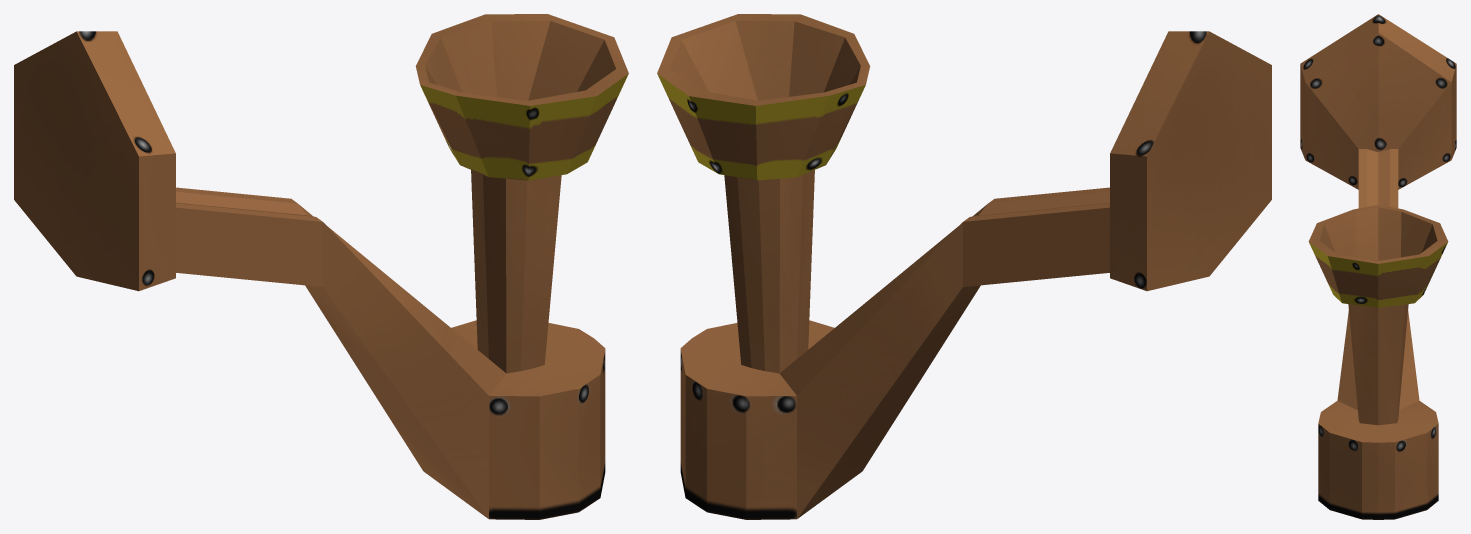
File: torch.fbx
The picture shows the model from 3 angles, left to right: view 1: azimuth 30°, elevation 25°; view 2: azimuth 150°, elevation 25°; view 3: azimuth 270°, elevation 25°; orthographic projection. The views are drawn at different scales.
Parts seen in each view (by area): view 1: Cube; view 2: Cube; view 3: Cube.
Boxes of the visible parts, left/top/right/bottom form: Cube: left=14, top=14, right=628, bottom=519; Cube: left=657, top=14, right=1271, bottom=519; Cube: left=1300, top=14, right=1456, bottom=519.
Size of the model in its own units: 1.32 by 1.31 by 0.532.
Materials: 2 (1 with a texture image).
